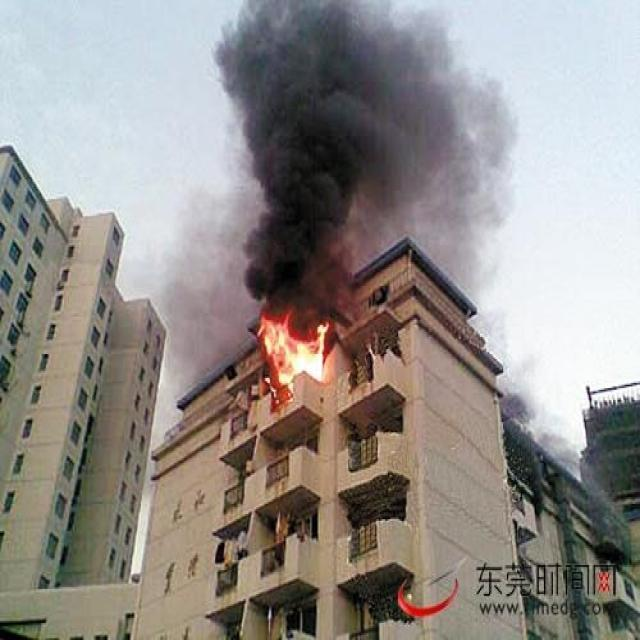Fire: (252, 315, 346, 408)
Smoke: (210, 0, 528, 315), (143, 154, 254, 408)
